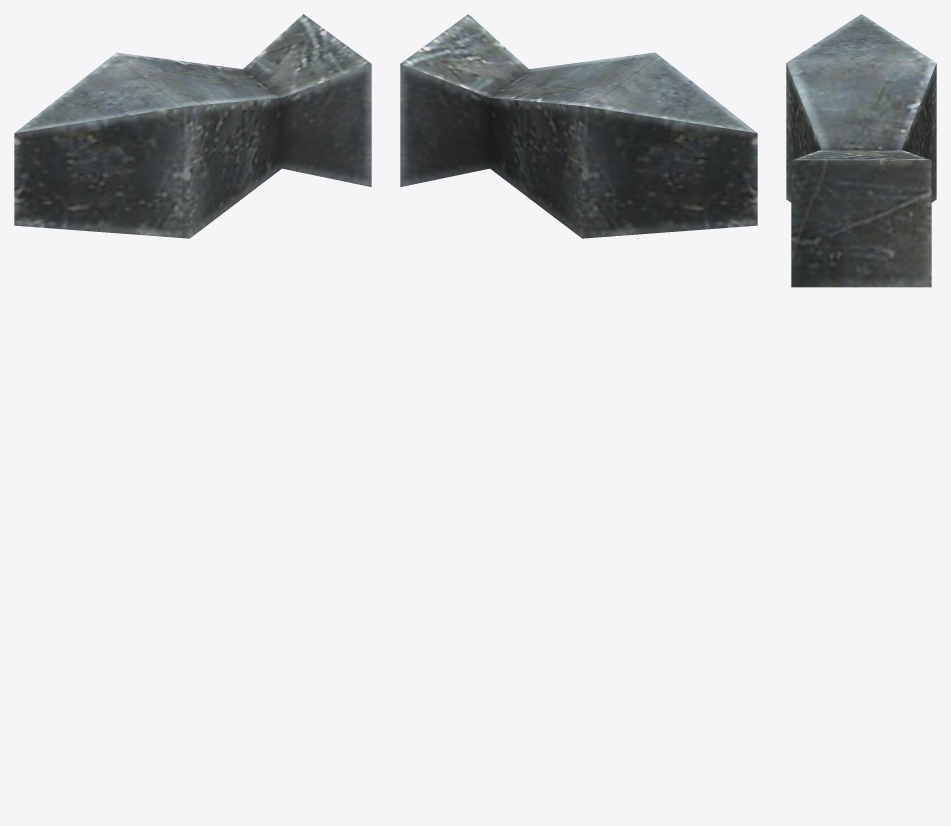
File: hammer01.FBX
The picture shows the model from 3 angles, left to right: view 1: azimuth 30°, elevation 25°; view 2: azimuth 150°, elevation 25°; view 3: azimuth 270°, elevation 25°; orthographic projection. The views are drawn at different scales.
Visible parts, largest first — view 1: hammer01; view 2: hammer01; view 3: hammer01.
Boxes of the visible parts, x1,y1,x2,y2 form: hammer01: (14,14,371,238); hammer01: (400,14,757,238); hammer01: (786,14,936,287).
Bounding box in the file's own units: 0.3434 × 0.1346 × 0.7221.
